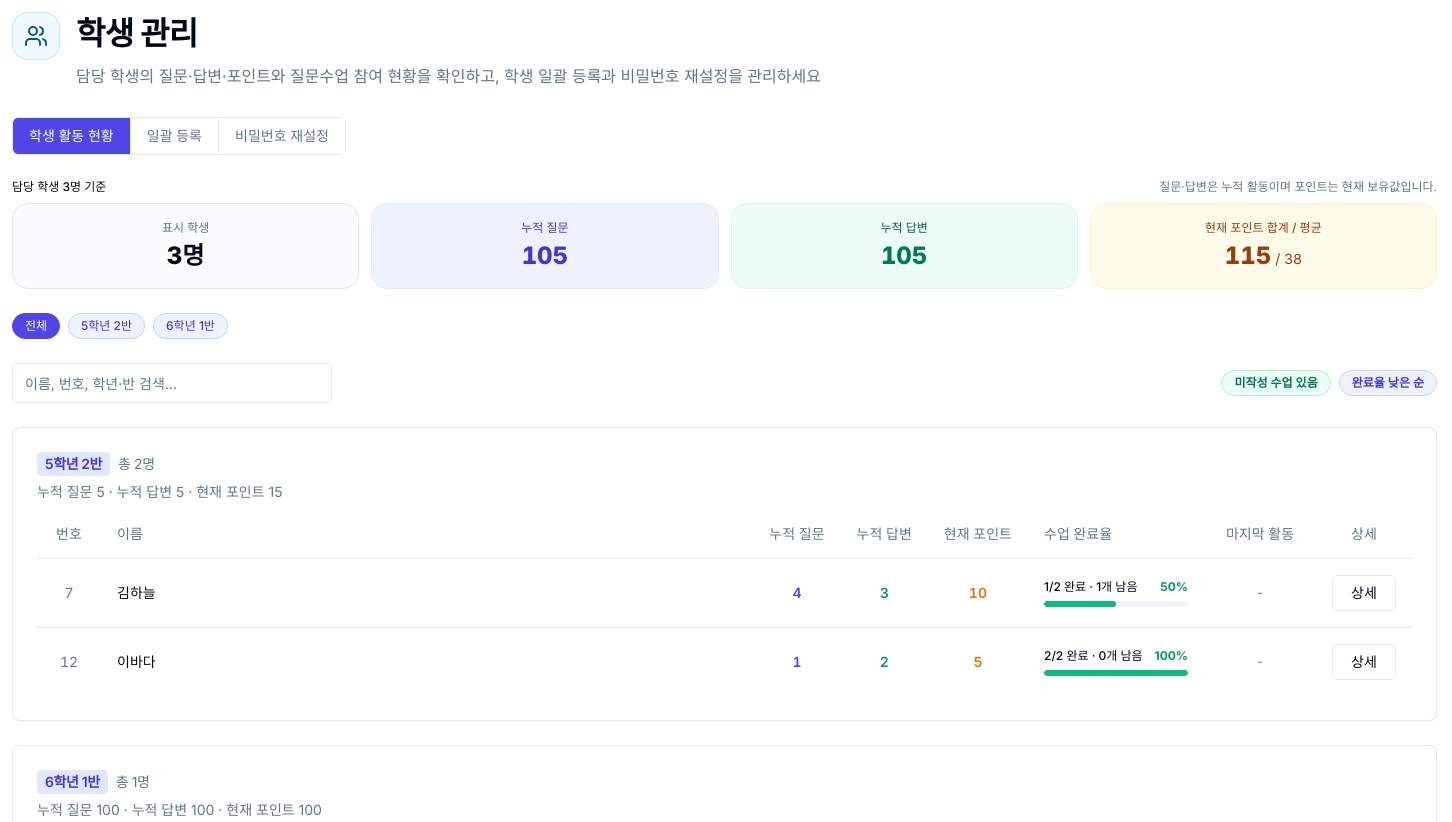
it: 학생관리 표시 범위 › 검색어 27로 번호와 학년반을 찾는다
Type "27" into the field with placeholder "이름, 번호, 학년·반 검색..." at [172, 383], box left=12, top=363, right=332, bottom=403
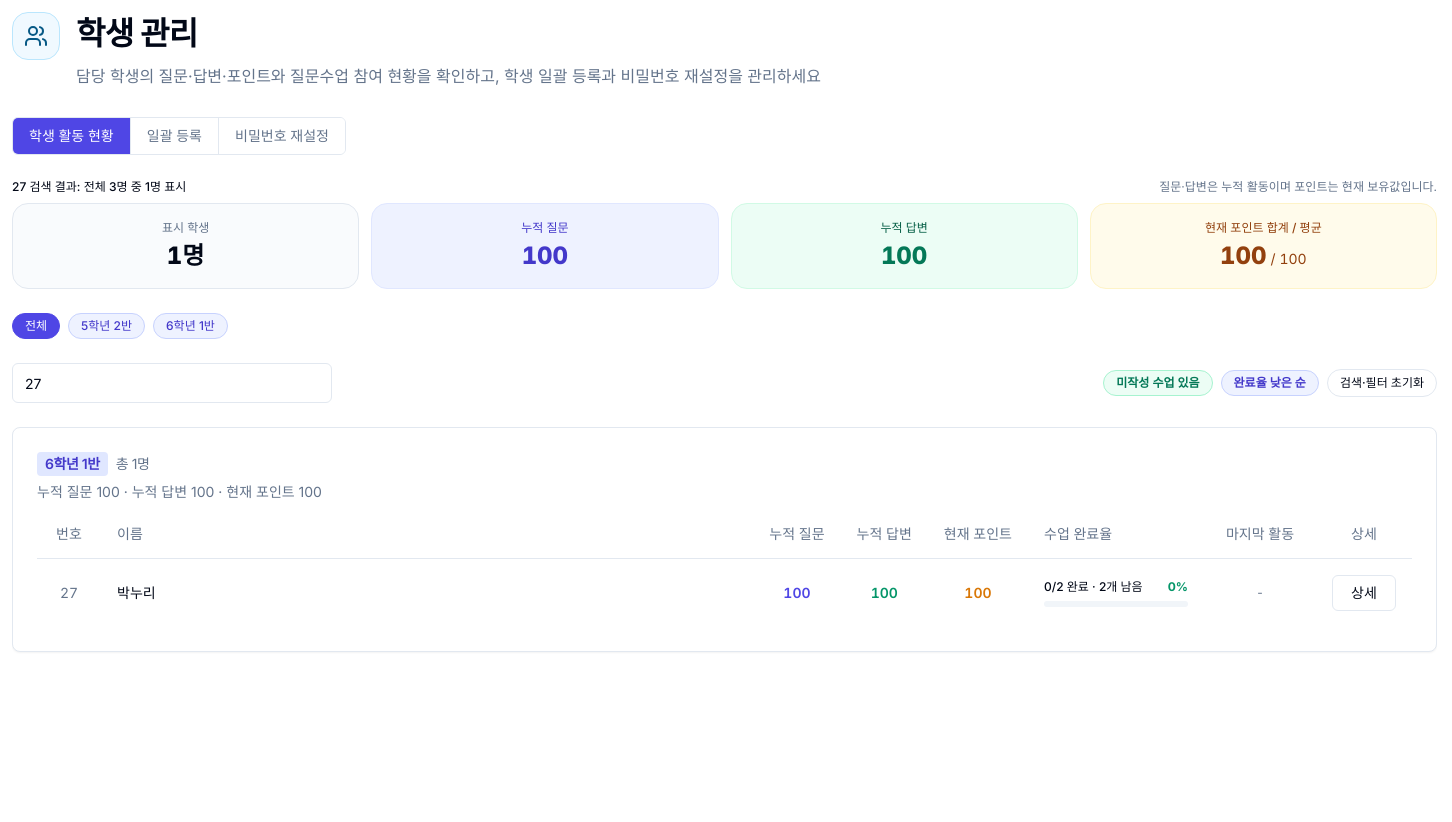
expect the text "김하늘" is gone: met
expect the text "이바다" is gone: met
